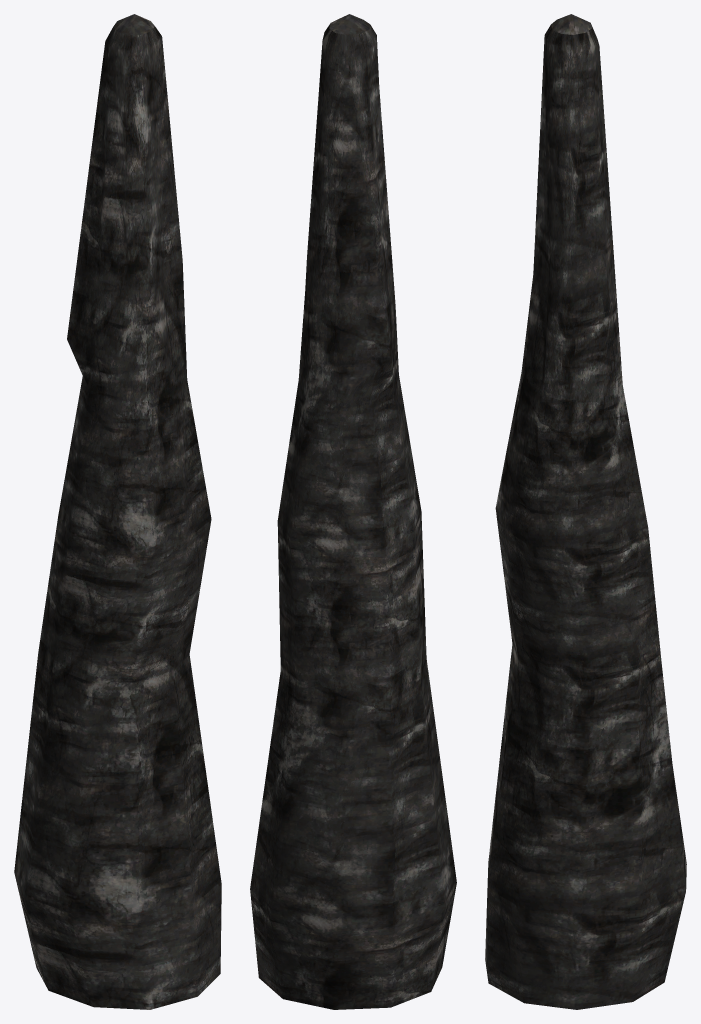
File: Stalactite02.DAE
The picture shows the model from 3 angles, left to right: view 1: azimuth 30°, elevation 25°; view 2: azimuth 150°, elevation 25°; view 3: azimuth 270°, elevation 25°; orthographic projection.
Visible parts, largest first — view 1: Cylinder001; view 2: Cylinder001; view 3: Cylinder001.
Part boxes in pixels (x1,y1,x2,y2): Cylinder001: (14,14,221,1009); Cylinder001: (250,14,456,1009); Cylinder001: (485,14,686,1009).
Bounding box in the file's own units: 0.6899 × 0.6667 × 3.5.
